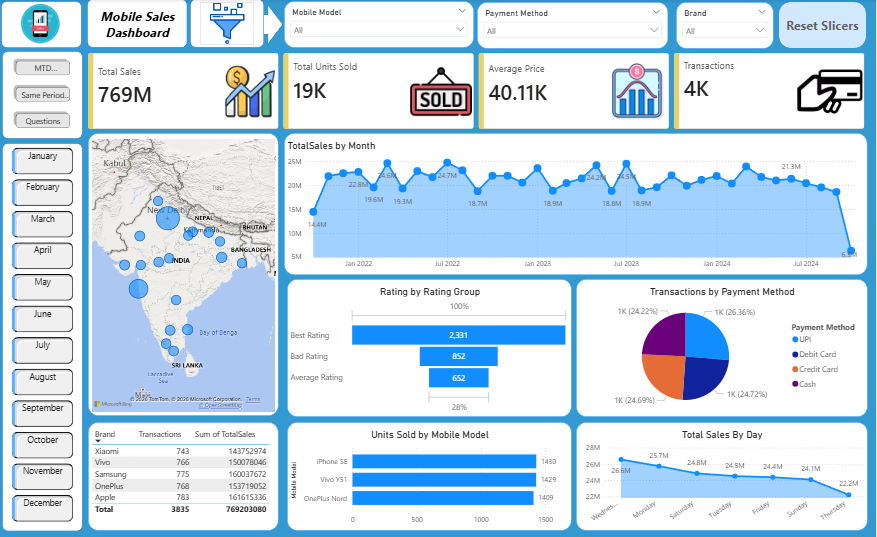

The page's visual inventory and layout, read from the dashboard file:
{"tool":"powerbi","page":{"name":"Dashboard","canvas":[1500,920],"ordinal":0},"visuals":[{"type":"shape","box":[3,3,138,80.4],"z":0},{"type":"image","box":[1.5,9.1,138,66.7],"z":1000},{"type":"shape","box":[4.5,245.7,138,664.3],"z":2000},{"type":"shape","box":[4.5,89.5,138,150.1],"z":3000},{"type":"advancedSlicerVisual","fields":{"Values":["Calender.Date.Variation.Date Hierarchy.Month"]},"box":[17,230,115,690],"z":4000},{"type":"cardVisual","fields":{"Data":["SalesData.Total Sales","SalesData.TotalUnitsSold","SalesData.Average Price","SalesData.Transactions"]},"box":[135.7,75.7,1364.3,164.3],"z":5000},{"type":"slicer","fields":{"Values":["SalesData.Mobile Model"]},"box":[486.7,3.3,325,80],"z":6000},{"type":"shape","box":[433.3,8.3,53.3,70],"z":7000},{"type":"slicer","fields":{"Values":["SalesData.Brand"]},"box":[1157.9,5.1,167,80.4],"z":8000},{"type":"slicer","fields":{"Values":["SalesData.Payment Method"]},"box":[818.3,5,326.7,80],"z":9000},{"type":"shape","box":[326.7,0,126.7,83.3],"z":10000},{"type":"image","box":[343.3,5,93.3,73.3],"z":11000},{"type":"shape","box":[150,0,171.7,83.3],"z":12000},{"type":"map","fields":{"Category":["SalesData.City"],"Size":["Sum(SalesData.TotalSales)"]},"box":[151.4,230,326,484.3],"z":13000},{"type":"lineChart","title":"TotalSales by Month","fields":{"Category":["Calender.Date.Variation.Date Hierarchy.Year","Calender.Date.Variation.Date Hierarchy.Month"],"Y":["Sum(SalesData.TotalSales)"]},"box":[487.1,230,998,242.9],"z":14000},{"type":"funnel","title":"Rating by Rating Group","fields":{"Category":["SalesData.Rating Group"],"Y":["CountNonNull(SalesData.Customer Age)"]},"box":[492.9,478.6,487.1,235.7],"z":15000},{"type":"pieChart","fields":{"Y":["SalesData.Transactions"],"Category":["SalesData.Payment Method"]},"box":[987.1,478.6,498.6,235.7],"z":16000},{"type":"barChart","title":"Units Sold by Mobile Model","fields":{"Y":["Sum(SalesData.Units Sold)"],"Category":["SalesData.Mobile Model"]},"box":[492.9,724.3,487.1,185.7],"z":17000},{"type":"lineChart","title":"Total Sales By Day","fields":{"Category":["Calender.Day Name"],"Y":["SalesData.Total Sales"]},"box":[987.1,724.3,498.6,185.7],"z":18000},{"type":"tableEx","fields":{"Values":["SalesData.Brand","SalesData.Transactions","Sum(SalesData.TotalSales)"]},"box":[151.4,724.3,325.7,185.7],"z":19000},{"type":"actionButton","box":[1334.1,5.1,148.8,78.7],"z":20000},{"type":"pageNavigator","box":[20,97.3,109.1,133.6],"z":21000}]}

Visuals, with their boxes in screenshot pixels (x1, y1, x2, y2), scaled from the page's 1500x920 canvas onto the 877x537 screenshot:
shape: 2, 2, 82, 49
image: 1, 5, 82, 44
shape: 3, 143, 83, 531
shape: 3, 52, 83, 140
advancedSlicerVisual - Calender.Date.Variation.Date Hierarchy.Month: 10, 134, 77, 536
cardVisual - SalesData.Total Sales x SalesData.TotalUnitsSold: 79, 44, 876, 140
slicer - SalesData.Mobile Model: 285, 2, 475, 49
shape: 253, 5, 284, 46
slicer - SalesData.Brand: 677, 3, 775, 50
slicer - SalesData.Payment Method: 478, 3, 669, 50
shape: 191, 0, 265, 49
image: 201, 3, 255, 46
shape: 88, 0, 188, 49
map - SalesData.City x Sum(SalesData.TotalSales): 89, 134, 279, 417
"TotalSales by Month" lineChart: 285, 134, 868, 276
"Rating by Rating Group" funnel: 288, 279, 573, 417
pieChart - SalesData.Transactions x SalesData.Payment Method: 577, 279, 869, 417
"Units Sold by Mobile Model" barChart: 288, 423, 573, 531
"Total Sales By Day" lineChart: 577, 423, 869, 531
tableEx - SalesData.Brand x SalesData.Transactions: 89, 423, 279, 531
actionButton: 780, 3, 867, 49
pageNavigator: 12, 57, 75, 135
